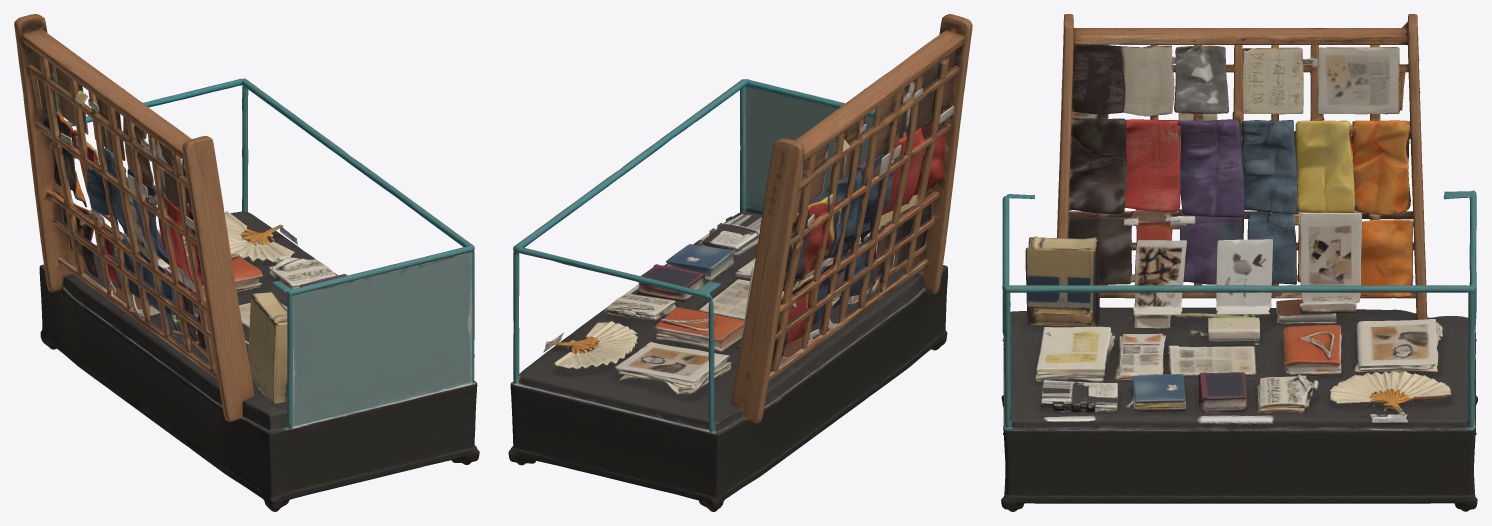
File: product_showing.fbx
3 views of the same model, side by side, from view 1: azimuth 30°, elevation 25°; view 2: azimuth 150°, elevation 25°; view 3: azimuth 270°, elevation 25° (orthographic). The views are drawn at different scales.
Parts seen in each view (by area): view 1: obj1; view 2: obj1; view 3: obj1.
Part boxes in pixels (left/top/right/bottom): obj1: left=14, top=14, right=479, bottom=511; obj1: left=508, top=14, right=972, bottom=511; obj1: left=1001, top=14, right=1477, bottom=511.
Bounding box in the file's own units: 64.36 × 84.85 × 98.24.
1 material, 1 textured.
